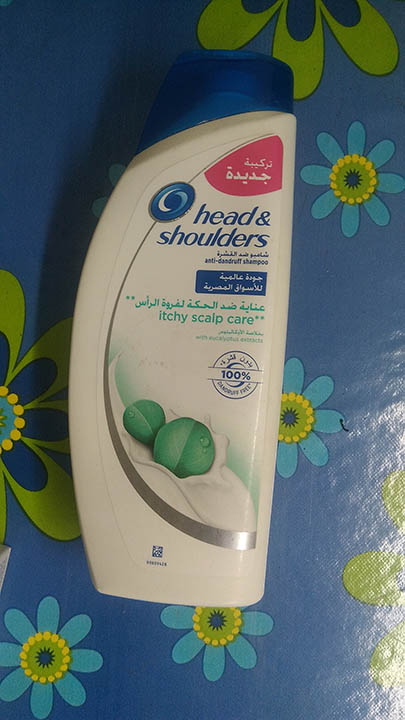shampoo-green 4.5$: (85, 65, 295, 619)
